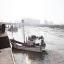fishing boat: (8, 34, 46, 52)
